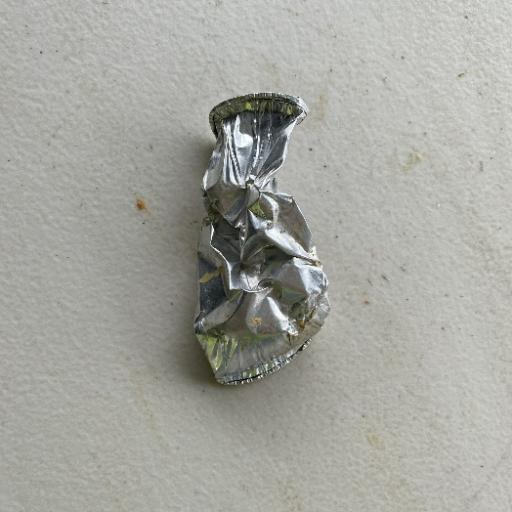Metal: (191, 90, 331, 387)
